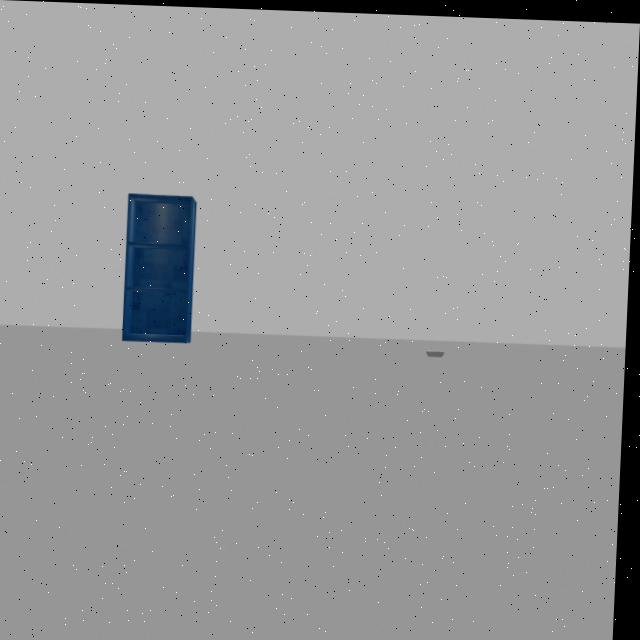bowl: (426, 339, 455, 367)
shelf: (115, 172, 212, 354)
